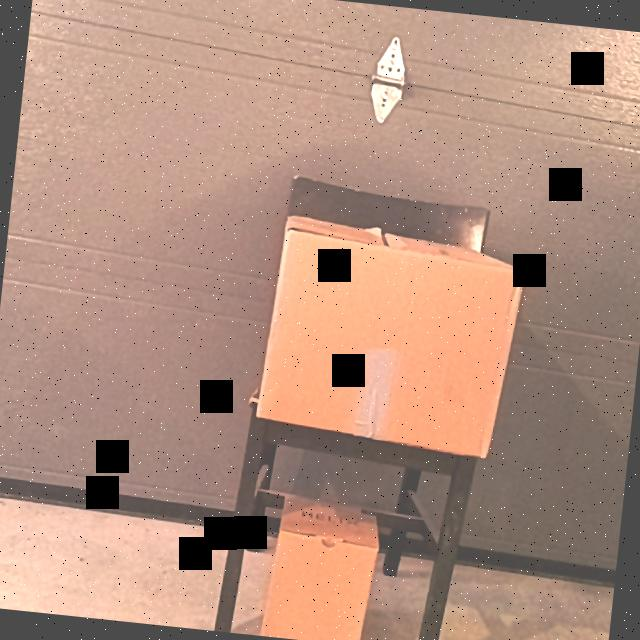box: (266, 238, 521, 460), (267, 532, 375, 640)
